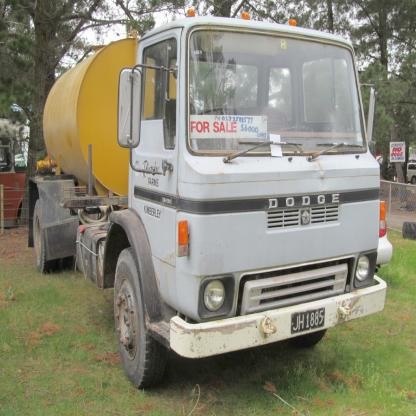Truck: (28, 10, 392, 388)
